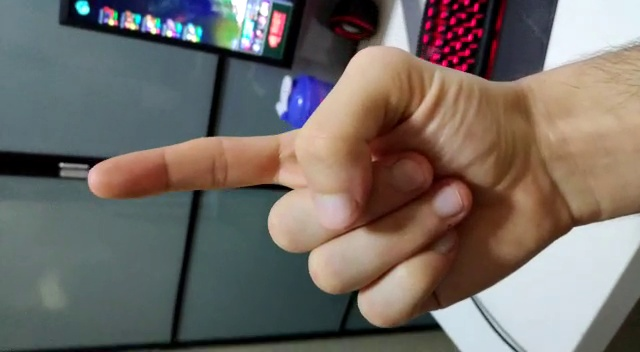One: (85, 118, 343, 204)
